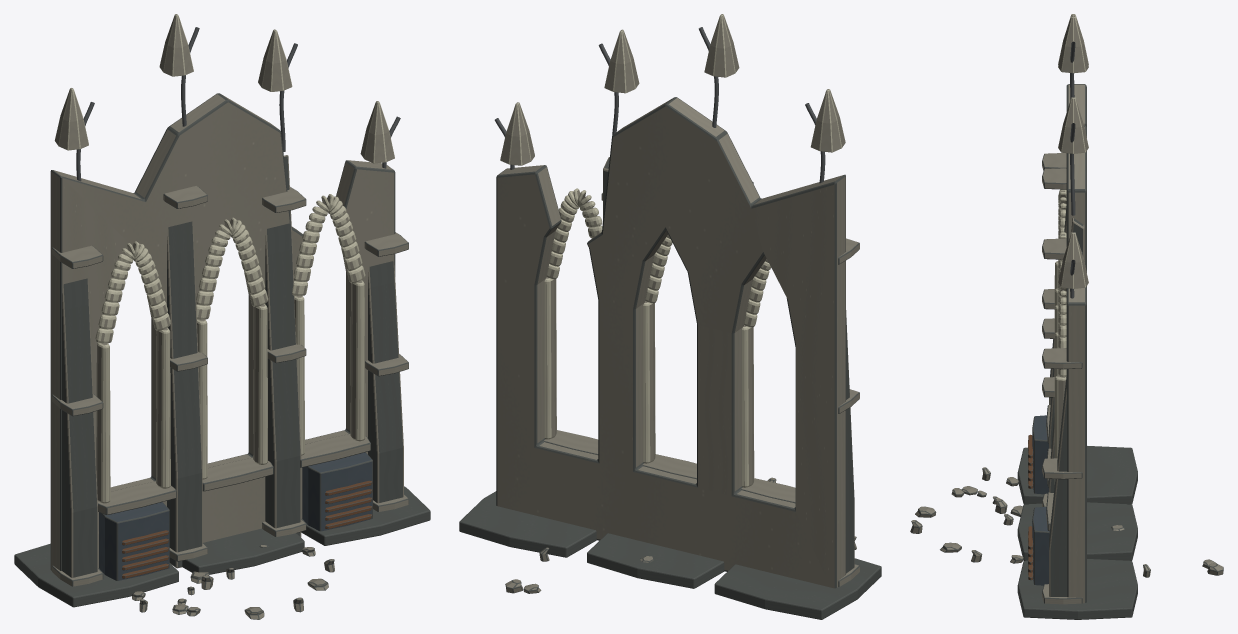
File: gatehouse.glb
3 views of the same model, side by side, from view 1: azimuth 30°, elevation 25°; view 2: azimuth 150°, elevation 25°; view 3: azimuth 270°, elevation 25° (orthographic). The views are drawn at different scales.
Visible parts, largest first — view 1: GT_environment_gatehouse; view 2: GT_environment_gatehouse; view 3: GT_environment_gatehouse.
Part boxes in pixels (x1=…): GT_environment_gatehouse: x1=14, y1=14, x2=430, y2=619; GT_environment_gatehouse: x1=459, y1=14, x2=881, y2=619; GT_environment_gatehouse: x1=910, y1=14, x2=1223, y2=619.
Bounding box in the file's own units: 8.8 × 12.35 × 7.03.
1 material, 1 textured.
